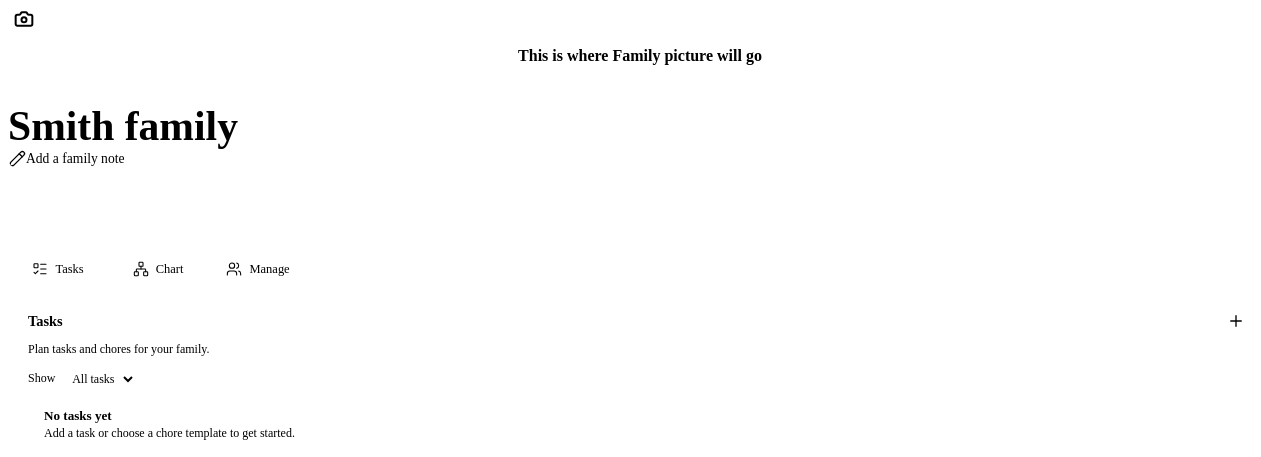
Test: FamilyScreen tabs › switches to the Manage tab and shows the add-relative control
Click the tab "Manage" at (258, 269), box [208,248,308,290]
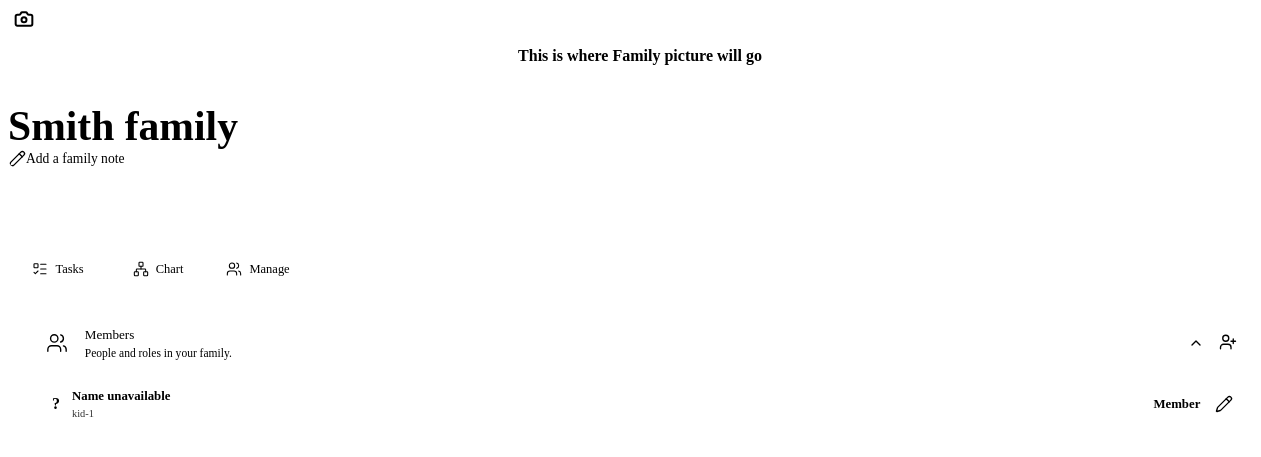
Check: the button named "Add relative" is shown, box [1212,331,1244,353]
